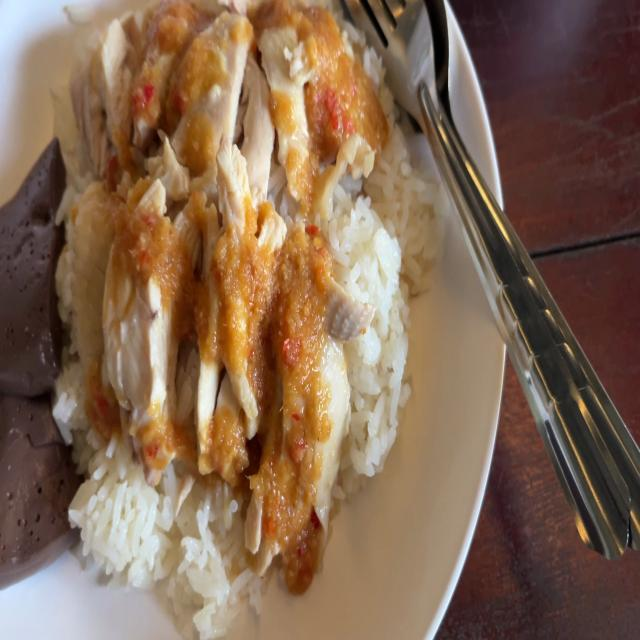boiled_chicken: (71, 16, 363, 472)
boiled_chicken_blood_jelly: (0, 136, 62, 385), (0, 373, 75, 567)
chicken_rice: (0, 0, 436, 639)
